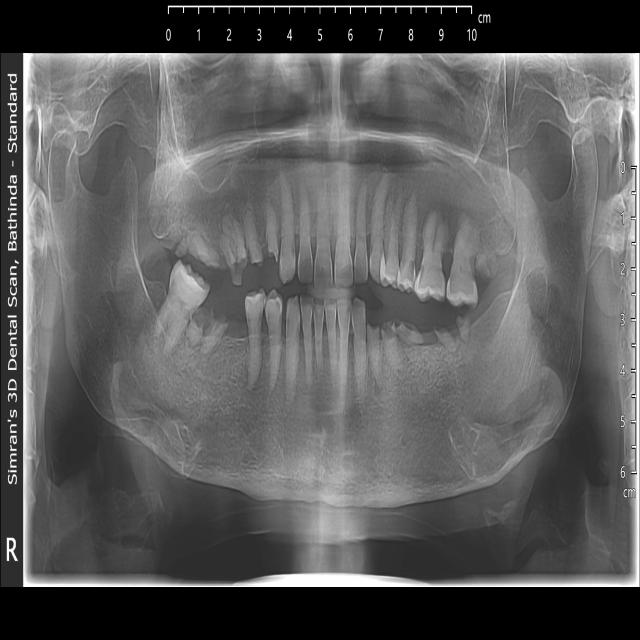Periapical lesion: (372, 376, 383, 401)
Root Piece: (173, 230, 224, 275), (220, 206, 247, 285), (186, 308, 226, 360), (381, 314, 403, 374), (435, 316, 469, 352), (244, 205, 264, 264), (366, 326, 382, 389), (391, 320, 425, 349), (266, 210, 279, 265)
